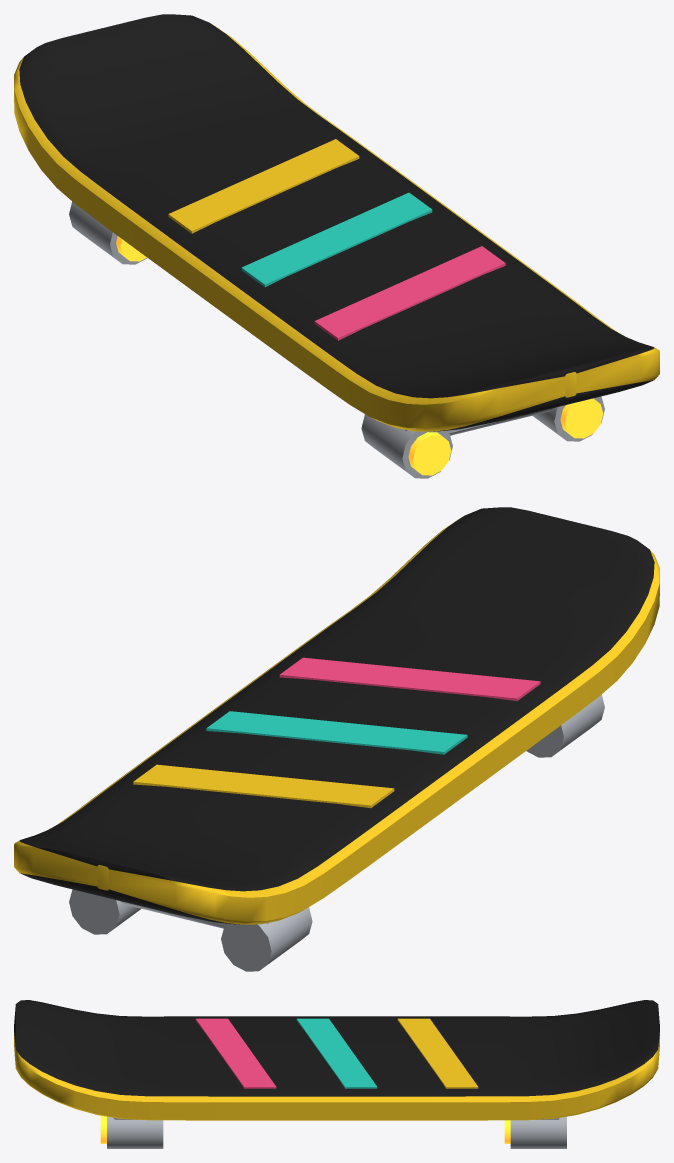
File: hoverboard_urban.glb
The picture shows the model from 3 angles, top to bottom: view 1: azimuth 30°, elevation 25°; view 2: azimuth 150°, elevation 25°; view 3: azimuth 270°, elevation 25°; orthographic projection. The views are drawn at different scales.
Visible parts, largest first — view 1: Hoverboard_Deck, Hoverboard_Thrusters; view 2: Hoverboard_Deck, Hoverboard_Thrusters; view 3: Hoverboard_Deck, Hoverboard_Thrusters.
Boxes of the visible parts, box(x1,y1,x2,y2) form: Hoverboard_Deck: box(14, 14, 659, 431); Hoverboard_Thrusters: box(69, 201, 604, 478); Hoverboard_Deck: box(14, 507, 659, 924); Hoverboard_Thrusters: box(69, 694, 604, 971); Hoverboard_Deck: box(14, 1000, 659, 1120); Hoverboard_Thrusters: box(100, 1115, 566, 1148).
Bounding box in the file's own units: 0.4968 × 0.2645 × 1.6.
